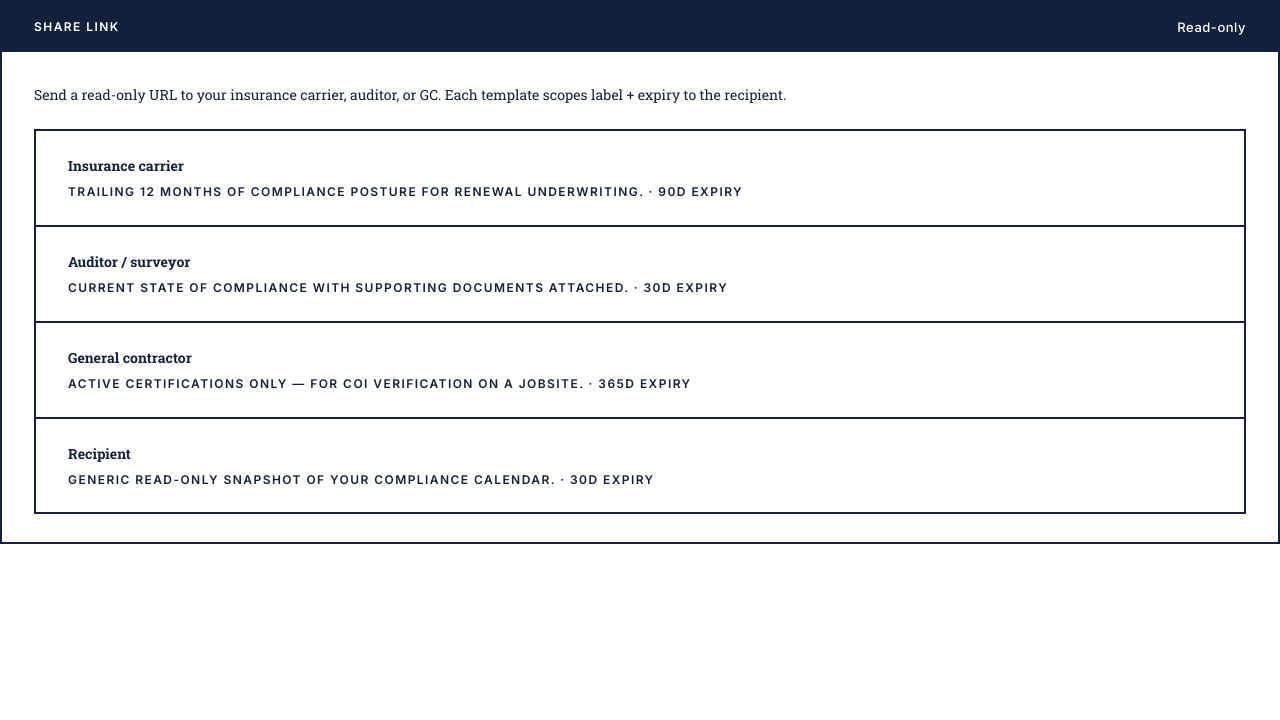
Test case: ShareLink › when canShare is true › shows loading state while fetching
Click the button "Insurance carrier" at (126, 166), box [34,129,1246,227]
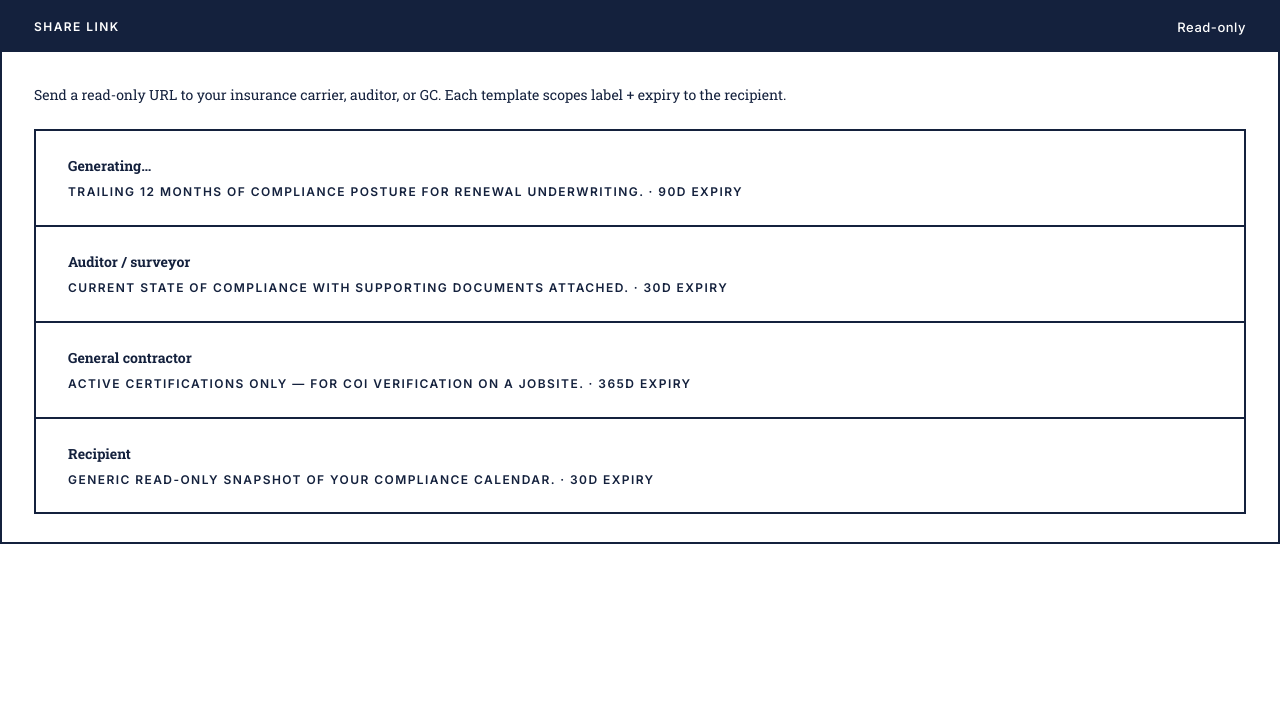
expect the text "Generating…" is shown: met, box [68,156,151,175]
